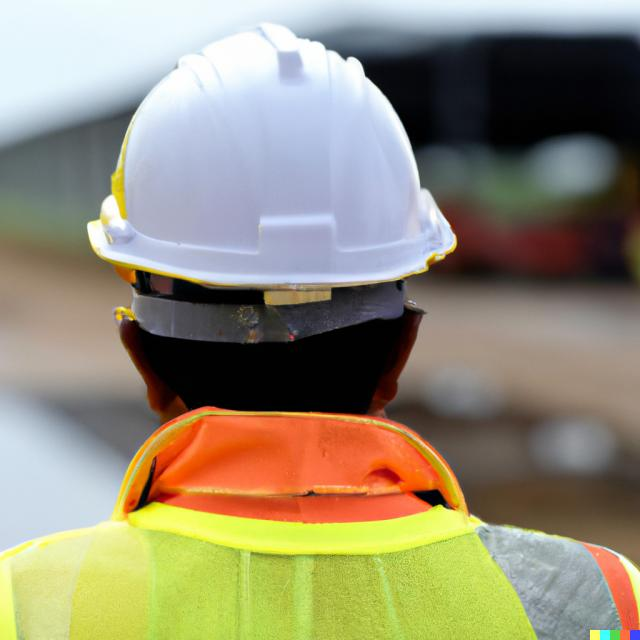Reflective-Jacket: (6, 413, 596, 638)
Safety-Helmet: (83, 27, 456, 291)
